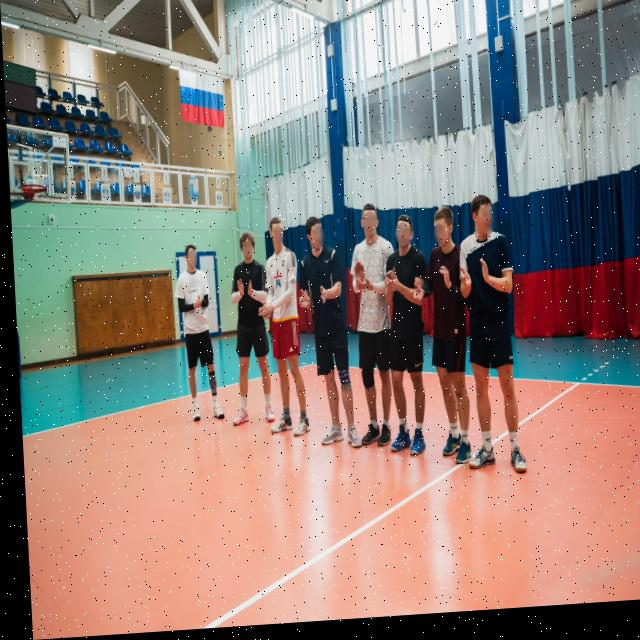Person: (454, 186, 522, 489), (373, 203, 429, 472), (423, 208, 472, 488), (344, 200, 398, 453), (257, 215, 309, 454), (307, 220, 354, 456), (169, 244, 224, 436), (225, 230, 271, 430)
